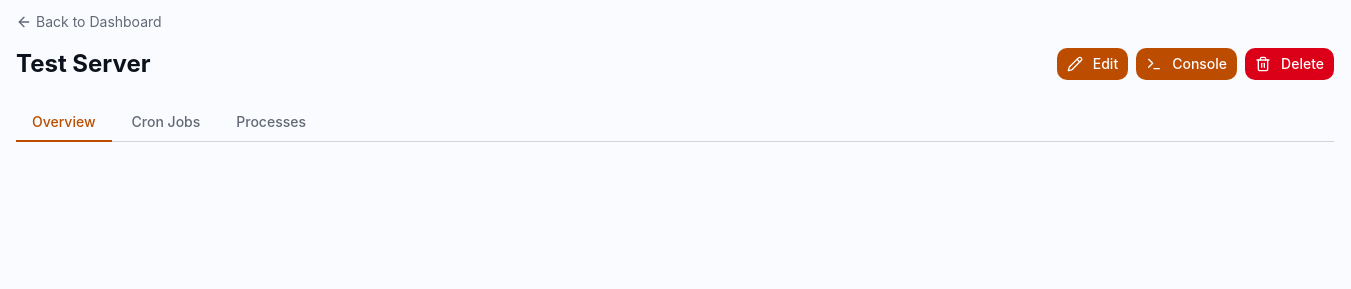
Scenario: ServerDetail — Processes tab › shows empty state when process list is empty
The width and height of the screenshot is (1351, 289).
Click the tab "Processes" at x=271, y=123, box left=220, top=104, right=322, bottom=142
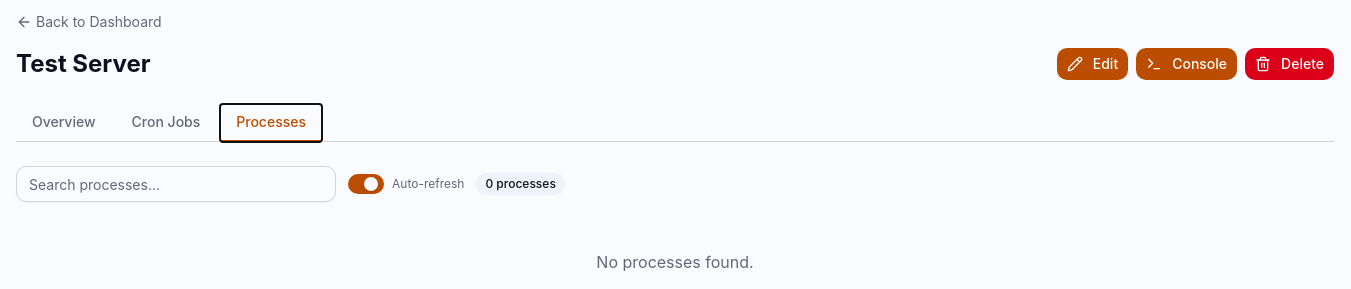
Check: the text "No processes found." is shown, box left=596, top=252, right=754, bottom=272
